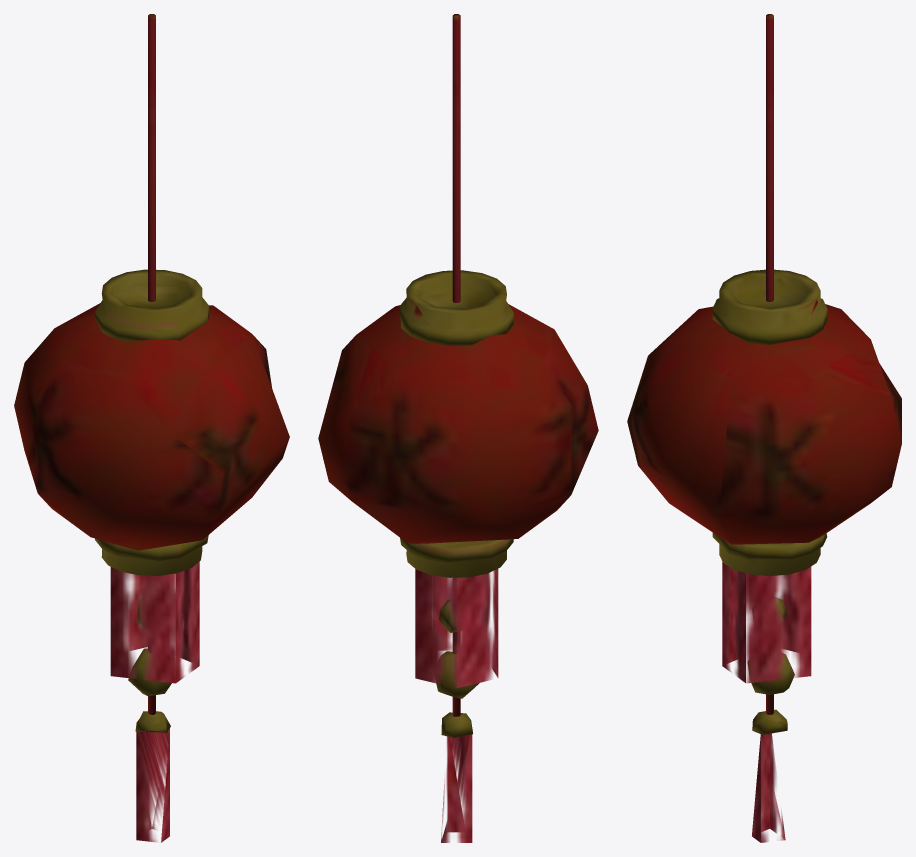
File: den-long-do.glb
3 views of the same model, side by side, from view 1: azimuth 30°, elevation 25°; view 2: azimuth 150°, elevation 25°; view 3: azimuth 270°, elevation 25° (orthographic).
Visible parts, largest first — view 1: Sphere.001, Sphere; view 2: Sphere.001, Sphere; view 3: Sphere.001, Sphere.
Boxes of the visible parts, x1,y1,x2,y2 form: Sphere.001: [14, 303, 289, 550]; Sphere: [95, 14, 208, 842]; Sphere.001: [318, 304, 598, 543]; Sphere: [399, 14, 513, 842]; Sphere.001: [627, 304, 901, 544]; Sphere: [712, 14, 827, 842].
Bounding box in the file's own units: 0.2913 × 1 × 0.3033.
Materials: 3 (3 with a texture image).
